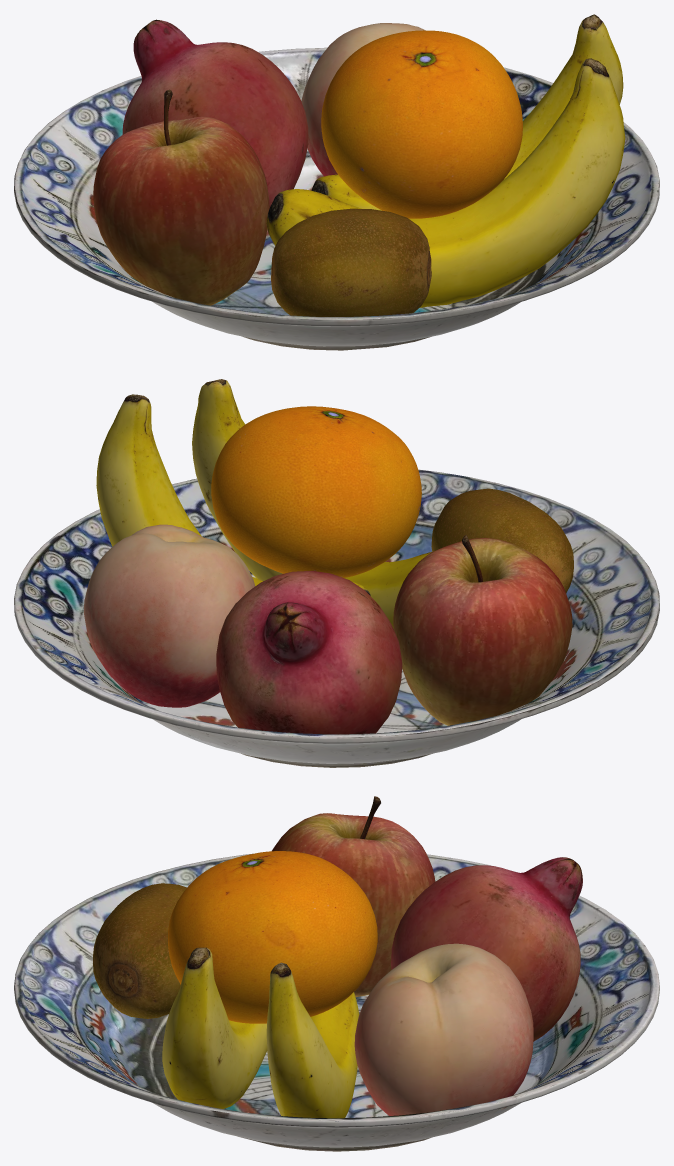
3 renders of one model, top to bottom at view 1: azimuth 30°, elevation 25°; view 2: azimuth 150°, elevation 25°; view 3: azimuth 270°, elevation 25°, orthographic.
Visible parts, largest first — view 1: Banana_Banana PBR_0, Mandarin Orange_Mandarin Orange PBR_0, Circle_None_sf66-4-7c.jpg_0, Apple_Apple PBR_0, Pomegranate_Pomegranate PBR_0, Kiwi_Kiwi PBR_0, Circle_None_0, Peach_Peach PBR_0; view 2: Circle_None_sf66-4-7c.jpg_0, Mandarin Orange_Mandarin Orange PBR_0, Apple_Apple PBR_0, Pomegranate_Pomegranate PBR_0, Peach_Peach PBR_0, Banana_Banana PBR_0, Circle_None_0, Kiwi_Kiwi PBR_0; view 3: Circle_None_sf66-4-7c.jpg_0, Mandarin Orange_Mandarin Orange PBR_0, Peach_Peach PBR_0, Banana_Banana PBR_0, Pomegranate_Pomegranate PBR_0, Apple_Apple PBR_0, Circle_None_0, Kiwi_Kiwi PBR_0.
Part boxes in pixels (<box>): Banana_Banana PBR_0: <box>266,14,625,307</box>; Mandarin Orange_Mandarin Orange PBR_0: <box>321,30,522,218</box>; Circle_None_sf66-4-7c.jpg_0: <box>15,47,658,319</box>; Apple_Apple PBR_0: <box>93,89,269,305</box>; Pomegranate_Pomegranate PBR_0: <box>122,19,308,207</box>; Kiwi_Kiwi PBR_0: <box>271,208,431,316</box>; Circle_None_0: <box>14,132,659,350</box>; Peach_Peach PBR_0: <box>301,23,425,176</box>; Circle_None_sf66-4-7c.jpg_0: <box>15,469,658,737</box>; Mandarin Orange_Mandarin Orange PBR_0: <box>211,406,421,577</box>; Apple_Apple PBR_0: <box>393,534,572,725</box>; Pomegranate_Pomegranate PBR_0: <box>216,571,402,734</box>; Peach_Peach PBR_0: <box>83,524,255,707</box>; Banana_Banana PBR_0: <box>96,379,433,628</box>; Circle_None_0: <box>14,554,659,767</box>; Kiwi_Kiwi PBR_0: <box>431,488,573,593</box>; Circle_None_sf66-4-7c.jpg_0: <box>15,853,658,1121</box>; Mandarin Orange_Mandarin Orange PBR_0: <box>168,851,377,1023</box>; Peach_Peach PBR_0: <box>354,943,533,1115</box>; Banana_Banana PBR_0: <box>162,947,359,1118</box>; Pomegranate_Pomegranate PBR_0: <box>391,857,582,1041</box>; Apple_Apple PBR_0: <box>272,796,435,996</box>; Circle_None_0: <box>14,933,659,1151</box>; Kiwi_Kiwi PBR_0: <box>93,883,186,1018</box>.
Size of the model in its own units: 0.2522 by 0.1079 by 0.2522.
8 materials, 8 textured.
